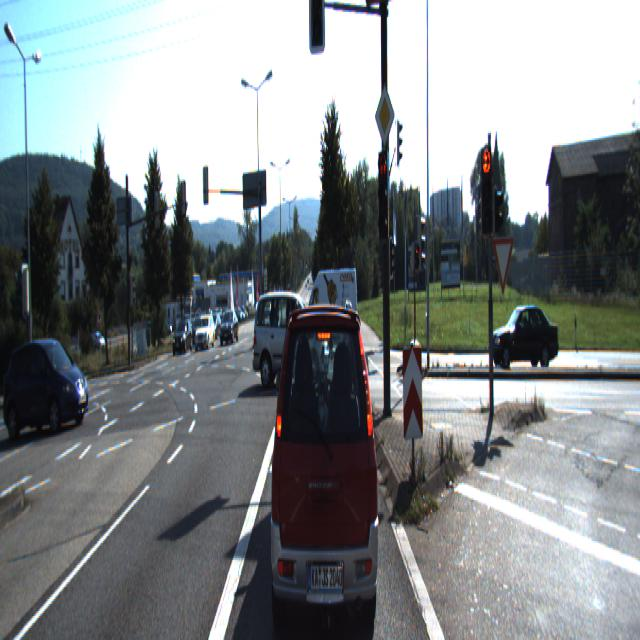Car: (267, 280, 381, 638), (1, 333, 92, 432), (251, 290, 330, 391), (488, 298, 559, 373), (302, 263, 359, 353), (172, 321, 193, 355), (195, 316, 215, 350), (219, 309, 239, 343)
